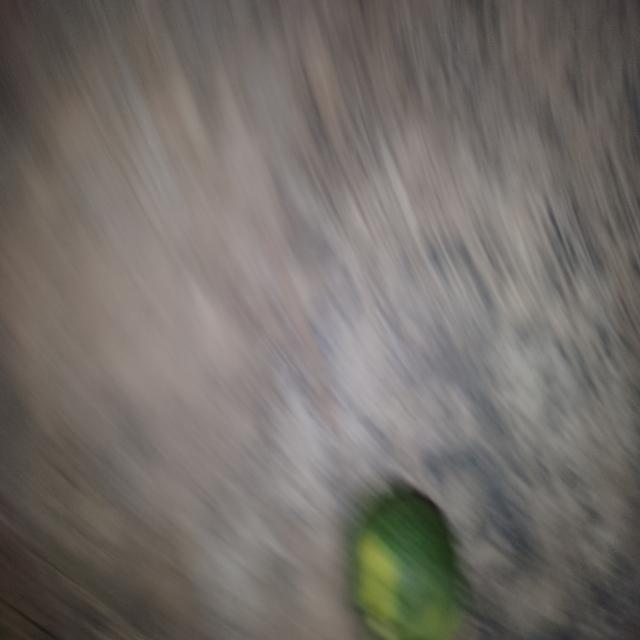agrume: (335, 494, 474, 640)
